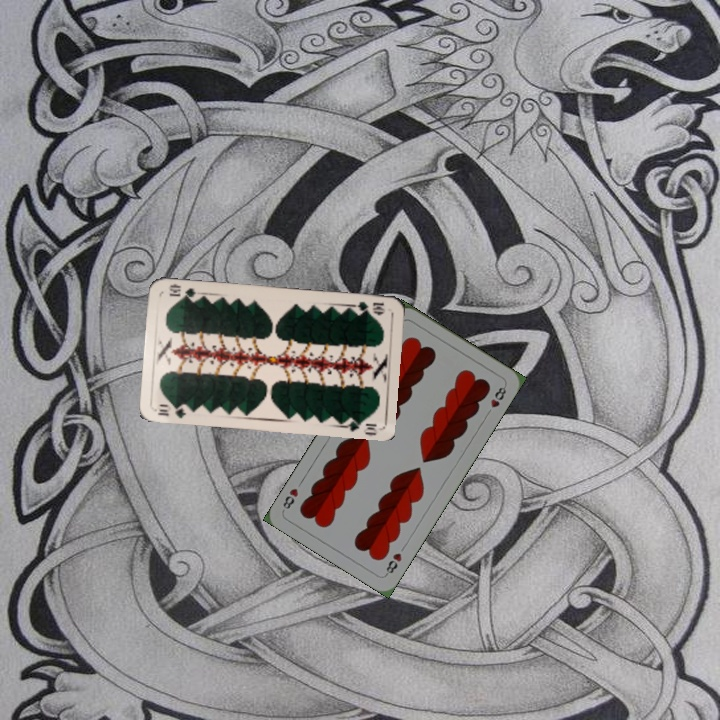G10: (350, 297, 388, 316), (152, 401, 188, 420)
H8: (382, 549, 404, 578)
